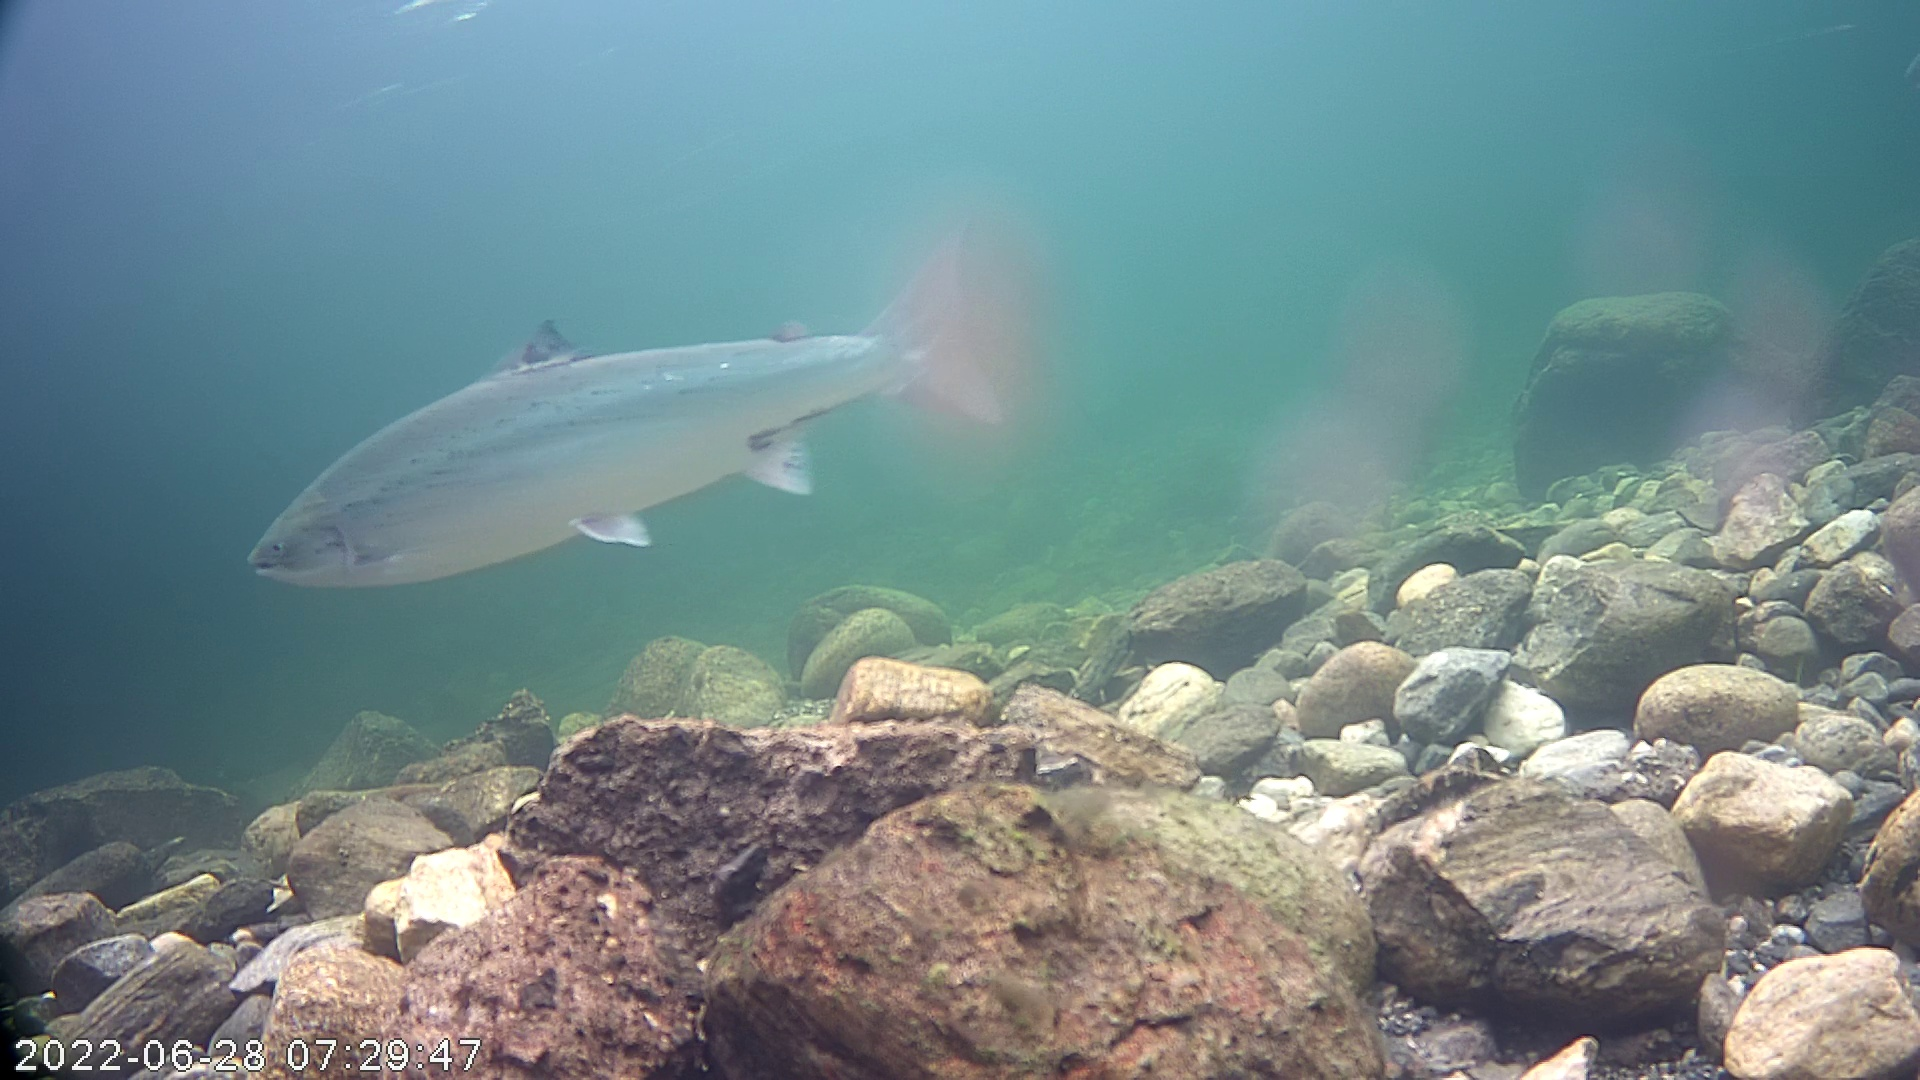salmon: (233, 177, 1038, 629)
